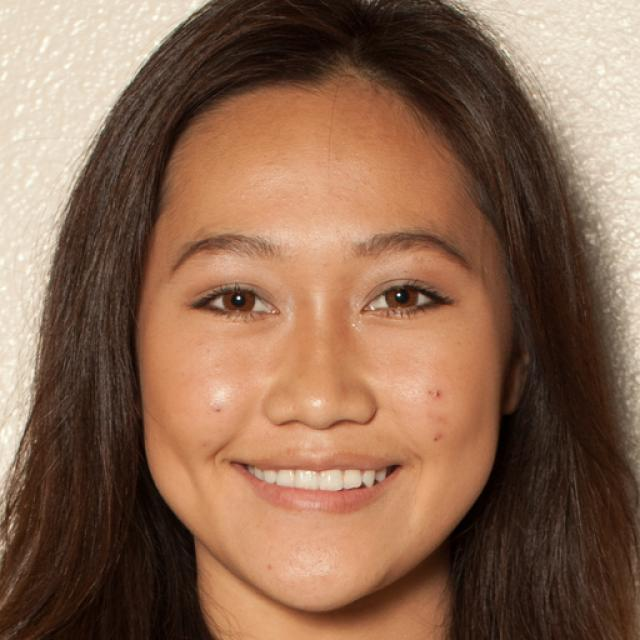Acne: (426, 385, 449, 404)
